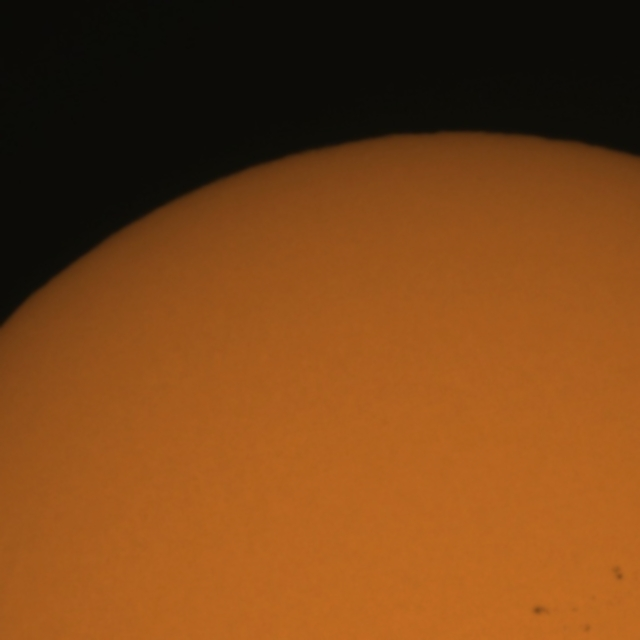sunspot: (530, 602, 552, 618), (609, 563, 626, 583), (580, 621, 594, 637)
